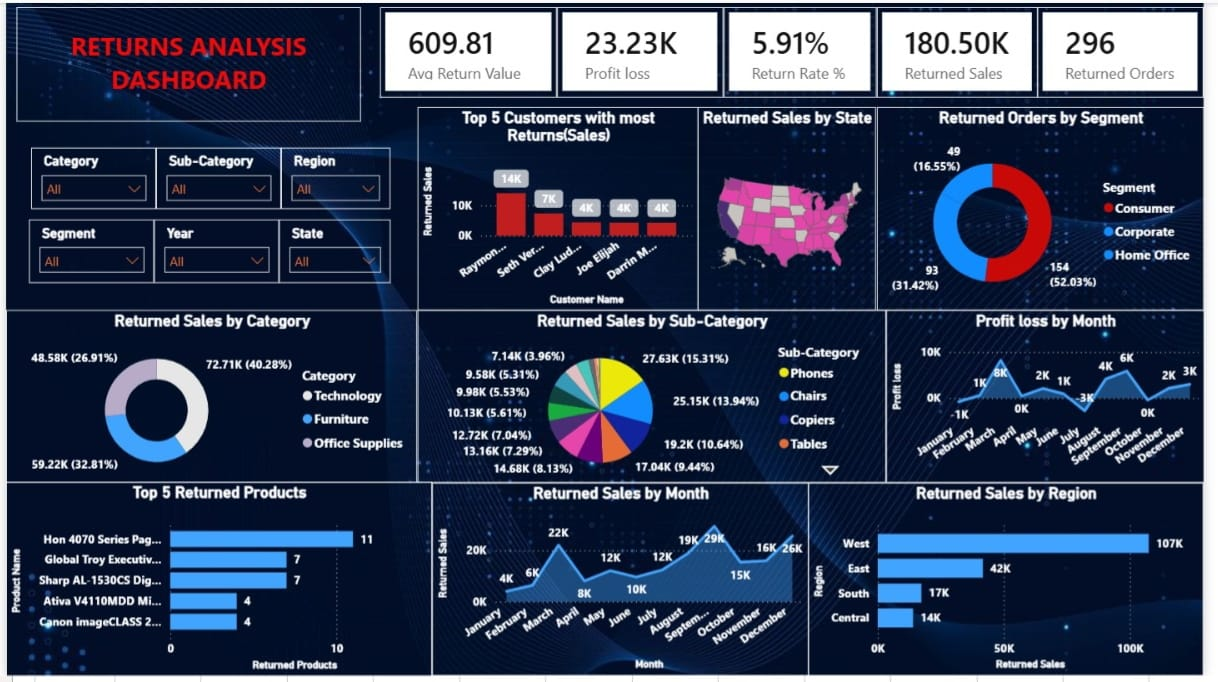

What the dashboard file says about the page in this screenshot:
{"tool":"powerbi","page":{"name":"Page 23","canvas":[1280,720],"ordinal":22},"visuals":[{"type":"cardVisual","fields":{"Data":["Orders.Returned Orders"]},"box":[1102.2,4.3,177.8,96.7],"z":0},{"type":"cardVisual","fields":{"Data":["Orders.Returned Sales"]},"box":[930.1,4.3,172.1,96.7],"z":1000},{"type":"cardVisual","fields":{"Data":["Orders.Return Rate %"]},"box":[766.6,4.3,163.6,96.7],"z":2000},{"type":"cardVisual","fields":{"Data":["Orders.Returned Profit"]},"box":[588.8,4.3,177.8,96.7],"z":3000},{"type":"cardVisual","fields":{"Data":["Orders.Avg Return Value"]},"box":[399.6,4.3,189.2,96.7],"z":4000},{"type":"clusteredBarChart","fields":{"Category":["Orders.Region"],"Y":["Orders.Returned Sales"]},"box":[857.6,513.4,422.4,206.2],"z":5000},{"type":"donutChart","fields":{"Y":["Orders.Returned Orders"],"Category":["Orders.Segment"]},"box":[930.1,110.9,349.9,217.6],"z":6000},{"type":"pieChart","fields":{"Y":["Orders.Returned Sales"],"Category":["Orders.Sub-Category"]},"box":[439.5,328.5,500.6,184.9],"z":7000},{"type":"shapeMap","fields":{"Category":["Orders.State Hierarchy.State"],"Value":["Orders.Returned Sales"]},"box":[739.6,110.9,190.6,217.6],"z":8000},{"type":"lineChart","fields":{"Category":["Orders.Order Date.Variation.Date Hierarchy.Month"],"Y":["Orders.Returned Sales"]},"box":[455.1,513.4,402.5,206.2],"z":9000},{"type":"lineChart","fields":{"Y":["Orders.Profit loss"],"Category":["Orders.Order Date.Variation.Date Hierarchy.Month"]},"box":[940.1,328.5,339.9,184.9],"z":10000},{"type":"lineStackedColumnComboChart","title":"Top 5  Customers with most Returns(Sales)","fields":{"Category":["Orders.Customer Name"],"Y":["Orders.Returned Sales"]},"box":[439.5,110.9,300.1,217.6],"z":11000},{"type":"clusteredBarChart","title":"Top 5 Returned Products","fields":{"Category":["Orders.Product Name"],"Y":["Orders.Returned Products"]},"box":[0,512,455.1,207.6],"z":12000},{"type":"donutChart","fields":{"Category":["Orders.Category"],"Y":["Orders.Returned Sales"]},"box":[0,328.5,439.5,184.9],"z":13000},{"type":"slicer","fields":{"Values":["Orders.Category"]},"box":[27,155,133.7,65.4],"z":14000},{"type":"slicer","fields":{"Values":["Orders.Order Date.Variation.Date Hierarchy.Year"]},"box":[157.9,231.8,133.7,68.3],"z":15000},{"type":"slicer","fields":{"Values":["Orders.Sub-Category"]},"box":[160.7,155,133.7,65.4],"z":16000},{"type":"slicer","fields":{"Values":["Orders.Region"]},"box":[294.4,155,116.6,65.4],"z":17000},{"type":"slicer","fields":{"Values":["Orders.Segment"]},"box":[24.2,231.8,133.7,68.3],"z":18000},{"type":"slicer","fields":{"Values":["Orders.State"]},"box":[291.6,231.8,119.5,68.3],"z":19000},{"type":"textbox","box":[11.4,4.3,368.4,122.3],"z":20000}]}

Visuals, with their boxes in screenshot pixels (x1, y1, x2, y2), scaled from the page's 1280x720 canvas onto the 1218x682 screenshot:
cardVisual - Orders.Returned Orders: x1=1049, y1=4, x2=1217, y2=96
cardVisual - Orders.Returned Sales: x1=885, y1=4, x2=1049, y2=96
cardVisual - Orders.Return Rate %: x1=729, y1=4, x2=885, y2=96
cardVisual - Orders.Returned Profit: x1=560, y1=4, x2=729, y2=96
cardVisual - Orders.Avg Return Value: x1=380, y1=4, x2=560, y2=96
clusteredBarChart - Orders.Region x Orders.Returned Sales: x1=816, y1=486, x2=1217, y2=681
donutChart - Orders.Returned Orders x Orders.Segment: x1=885, y1=105, x2=1217, y2=311
pieChart - Orders.Returned Sales x Orders.Sub-Category: x1=418, y1=311, x2=895, y2=486
shapeMap - Orders.State Hierarchy.State x Orders.Returned Sales: x1=704, y1=105, x2=885, y2=311
lineChart - Orders.Order Date.Variation.Date Hierarchy.Month x Orders.Returned Sales: x1=433, y1=486, x2=816, y2=681
lineChart - Orders.Profit loss x Orders.Order Date.Variation.Date Hierarchy.Month: x1=895, y1=311, x2=1217, y2=486
"Top 5  Customers with most Returns(Sales)" lineStackedColumnComboChart: x1=418, y1=105, x2=704, y2=311
"Top 5 Returned Products" clusteredBarChart: x1=0, y1=485, x2=433, y2=681
donutChart - Orders.Category x Orders.Returned Sales: x1=0, y1=311, x2=418, y2=486
slicer - Orders.Category: x1=26, y1=147, x2=153, y2=209
slicer - Orders.Order Date.Variation.Date Hierarchy.Year: x1=150, y1=220, x2=277, y2=284
slicer - Orders.Sub-Category: x1=153, y1=147, x2=280, y2=209
slicer - Orders.Region: x1=280, y1=147, x2=391, y2=209
slicer - Orders.Segment: x1=23, y1=220, x2=150, y2=284
slicer - Orders.State: x1=277, y1=220, x2=391, y2=284
textbox: x1=11, y1=4, x2=361, y2=120
